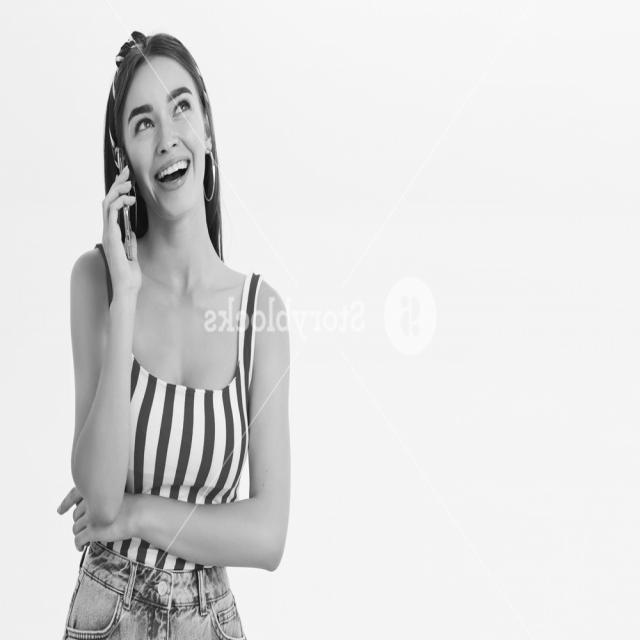phone: (88, 87, 158, 291)
